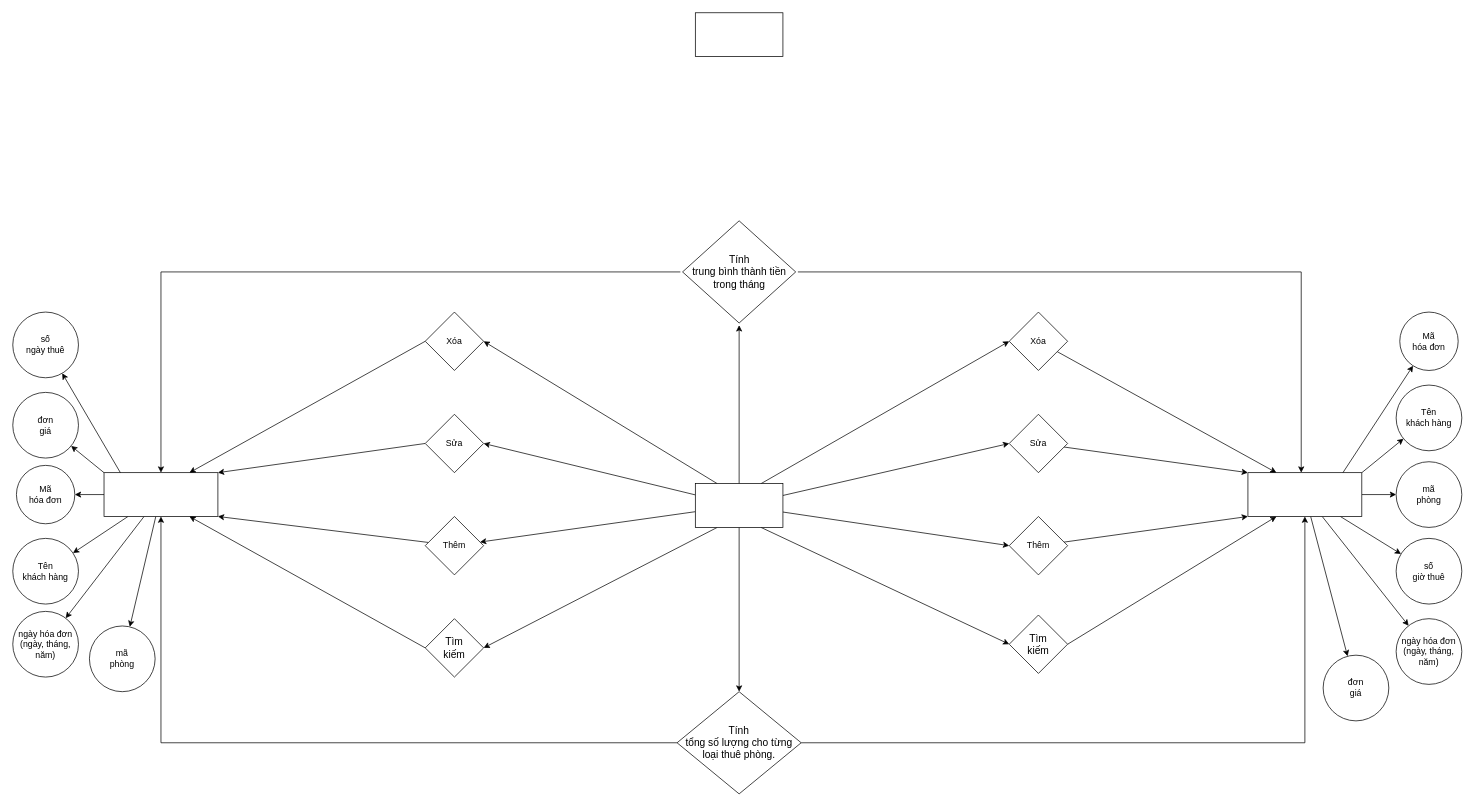
Some shapes in this 1475 by 807 pixel diagram are drawn without their labels. The centre of each missing label's shape, as x and y in pixels:
Hóa đơn theo giờ: the point at 1304,494
Hóa đơn theo ngày: the point at 160,494
Phòng: the point at 739,34
Quản trị: the point at 739,505
